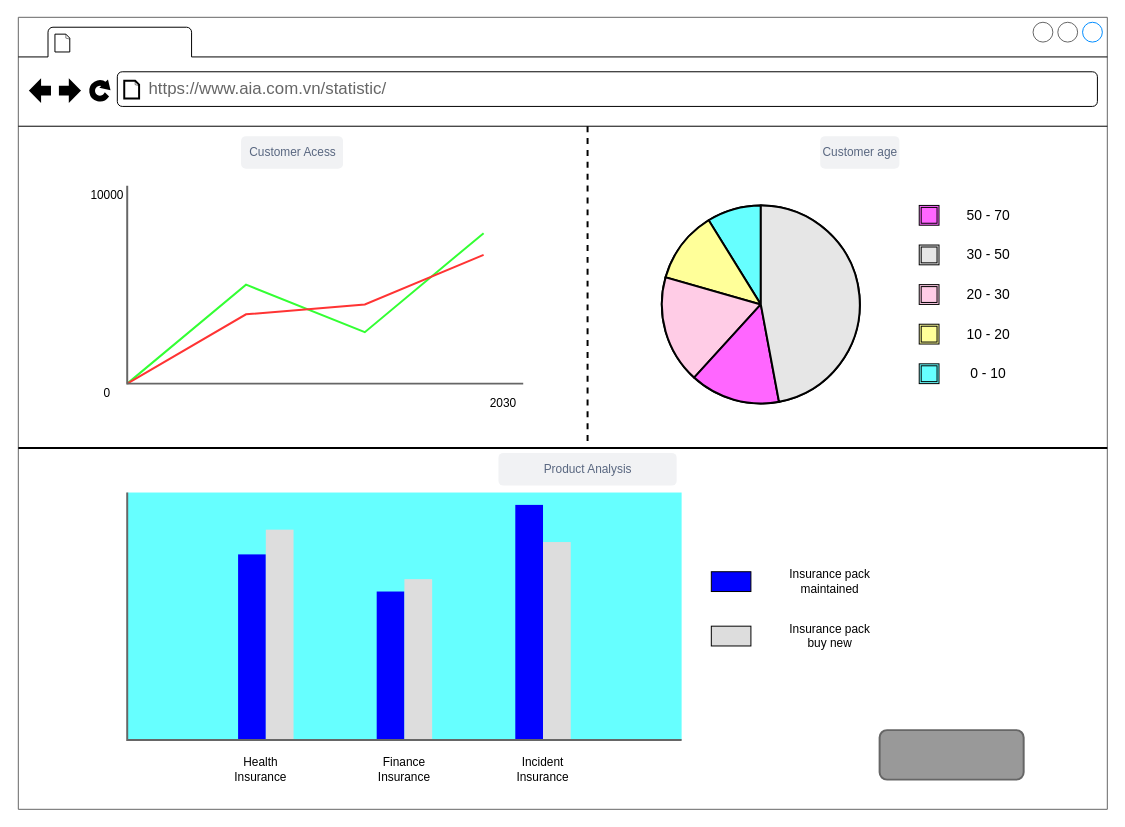
Some shapes in this 1125 by 827 pixel diagram are drawn without their labels. The shapes that lost their labels are listed below. From the top down, each one's centre as x and y in pixels, then its label:
[132,41]: AIA Viet Nam
[951,754]: Generate Report
